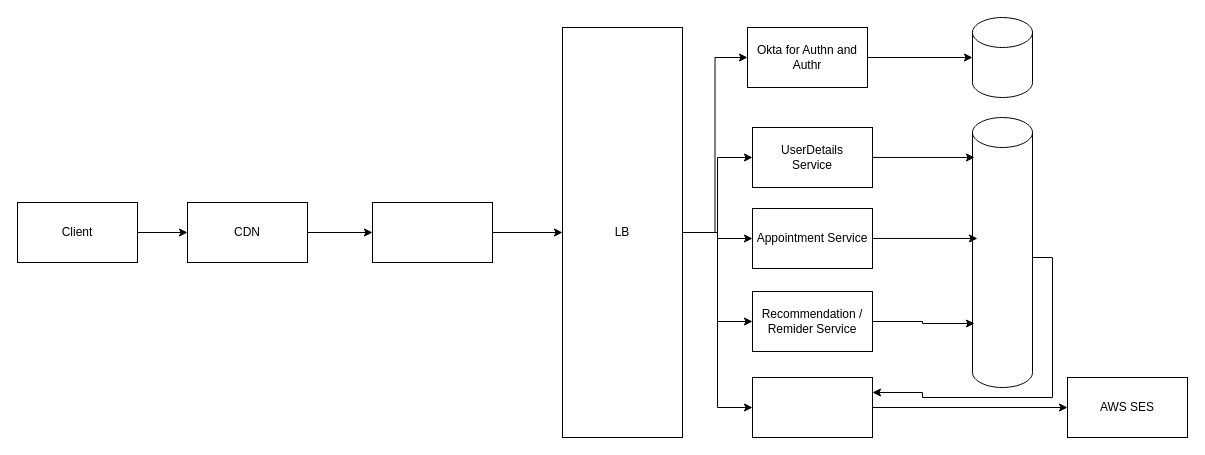
Image size: 1205x455. Some labels were removed from this diagram. Each missing label, with the centre of its shape:
API Gateway: pixel 432 232
Mongo DB: pixel 1002 252
Notification Service: pixel 812 407
Okta DB: pixel 1002 57
